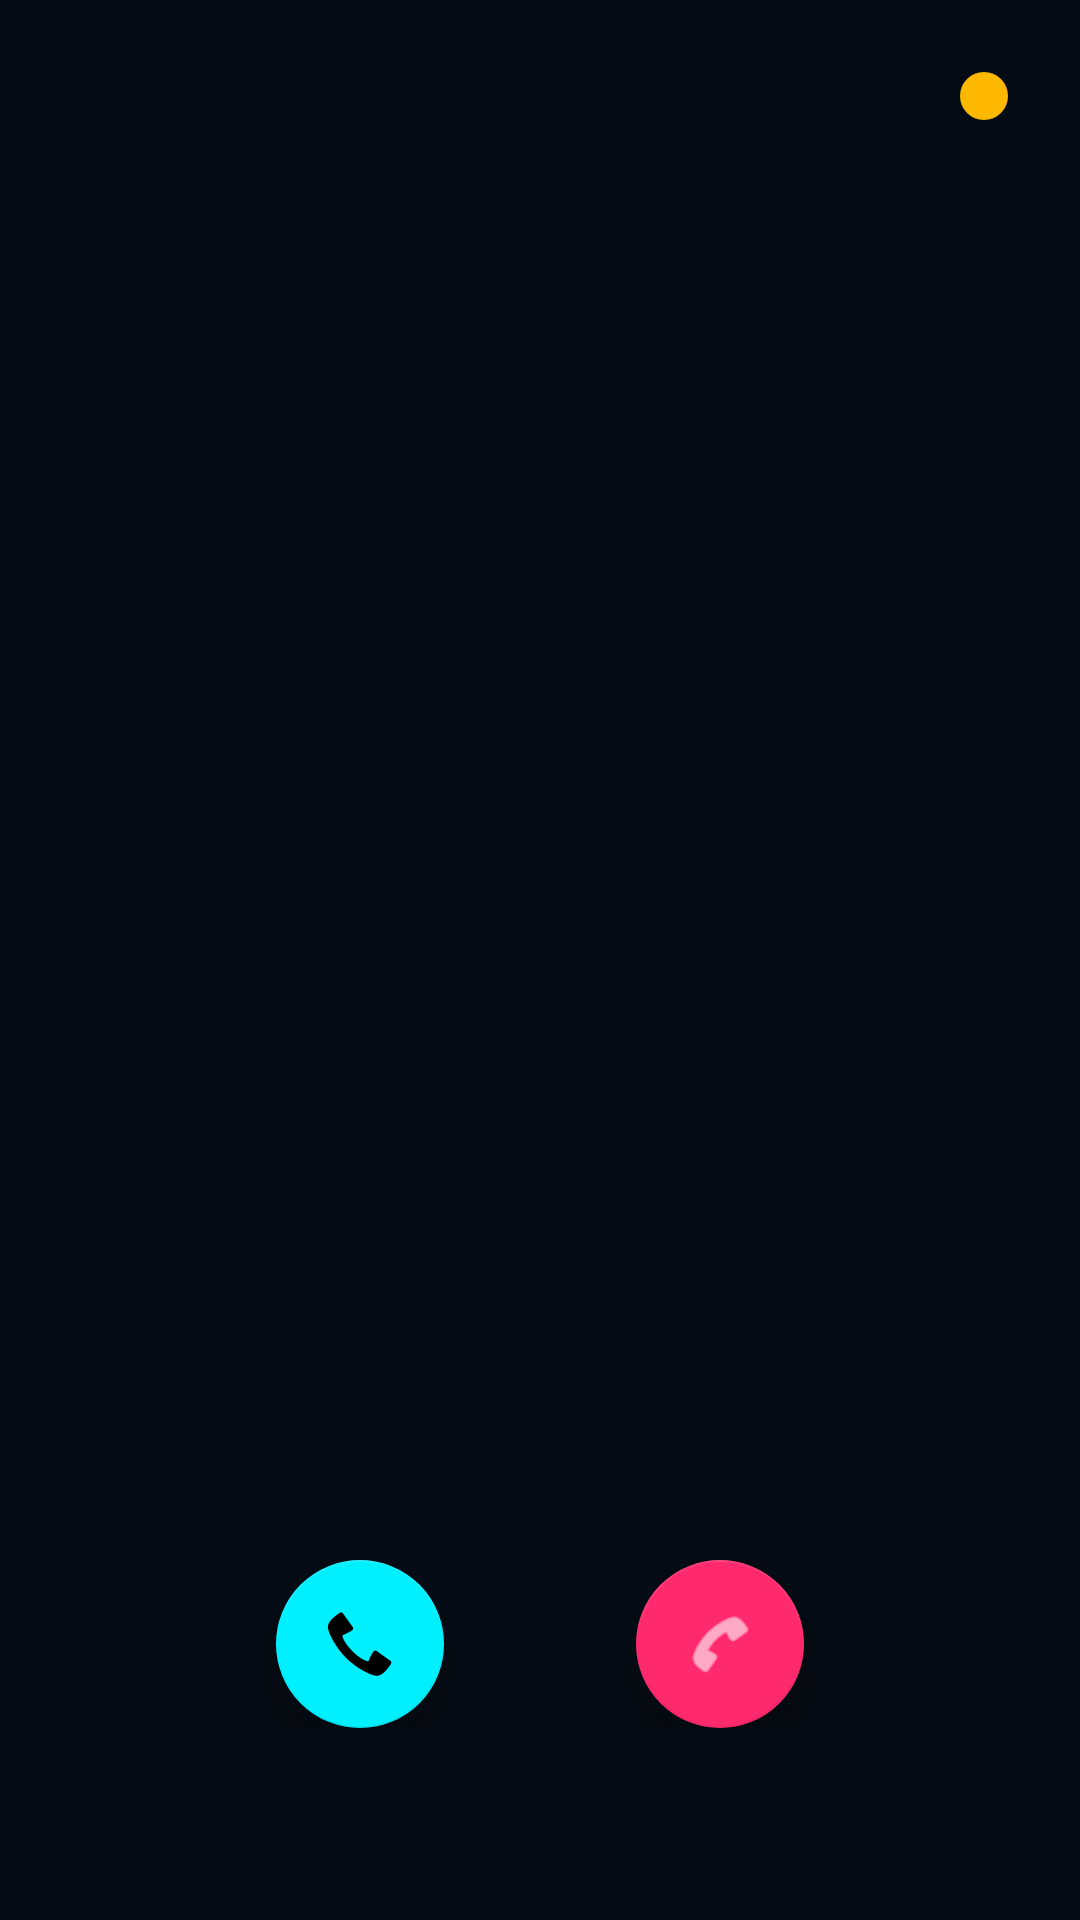

Icons on this 1080×1920 Android screen, each with its box as (x1, y1, x2, y2):
phone call: (276, 1560, 444, 1728)
